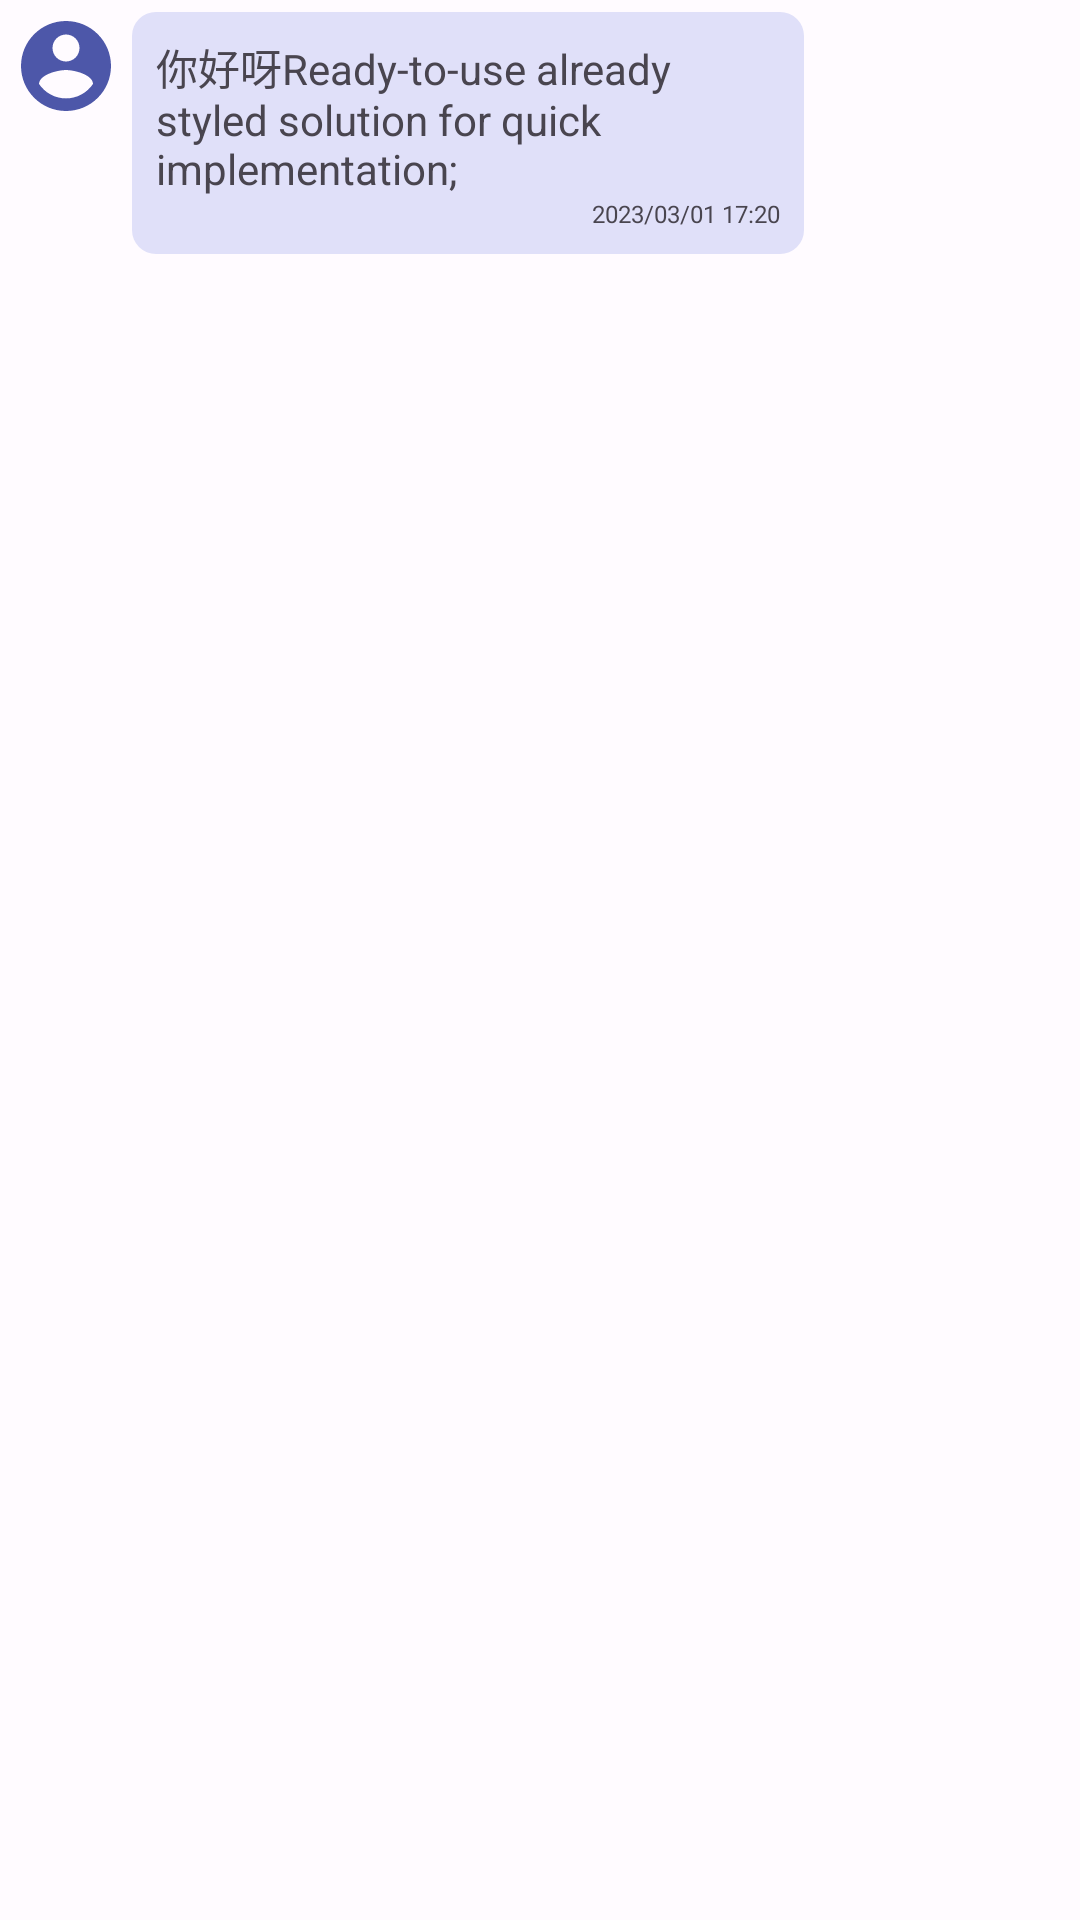

Point at icon controls on the screen. Image size 1080px x 1920px, points as (x,y).
account circle: (66,66)
